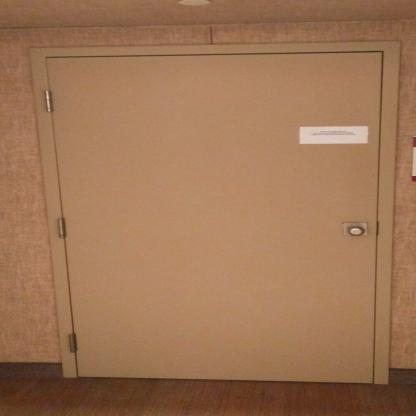door: (49, 51, 386, 384)
hinged: (55, 218, 71, 240), (42, 89, 56, 112), (66, 331, 80, 352)
knob: (347, 226, 365, 236)
